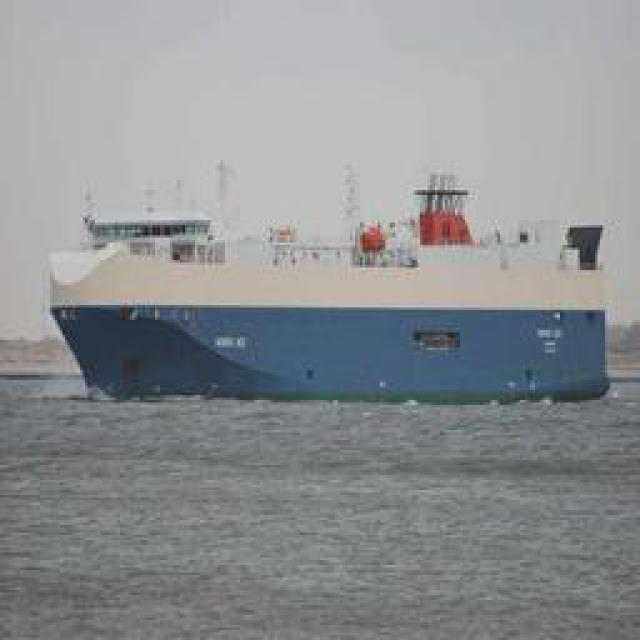Ship: (48, 225, 616, 408)
